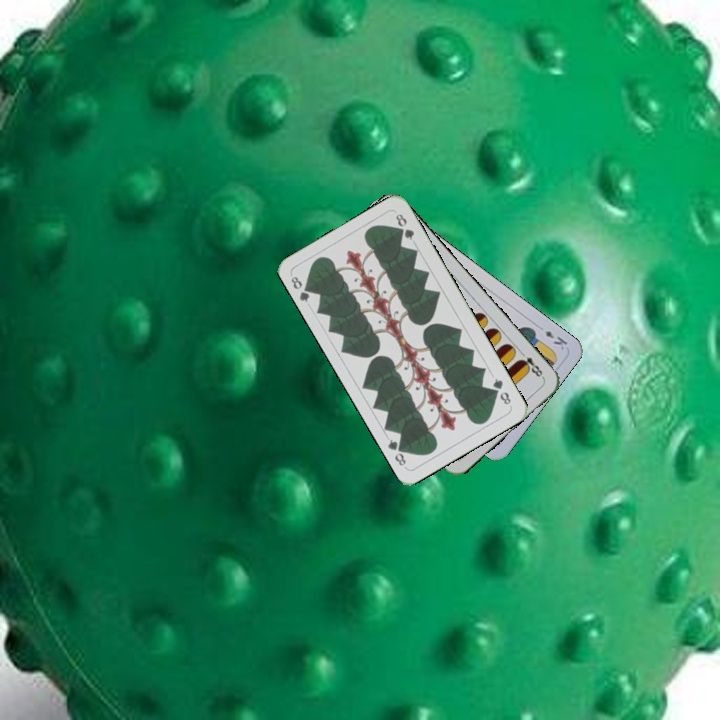E8: (515, 347, 546, 381)
EK: (540, 327, 570, 353)
G8: (287, 271, 315, 305), (488, 374, 514, 409)
